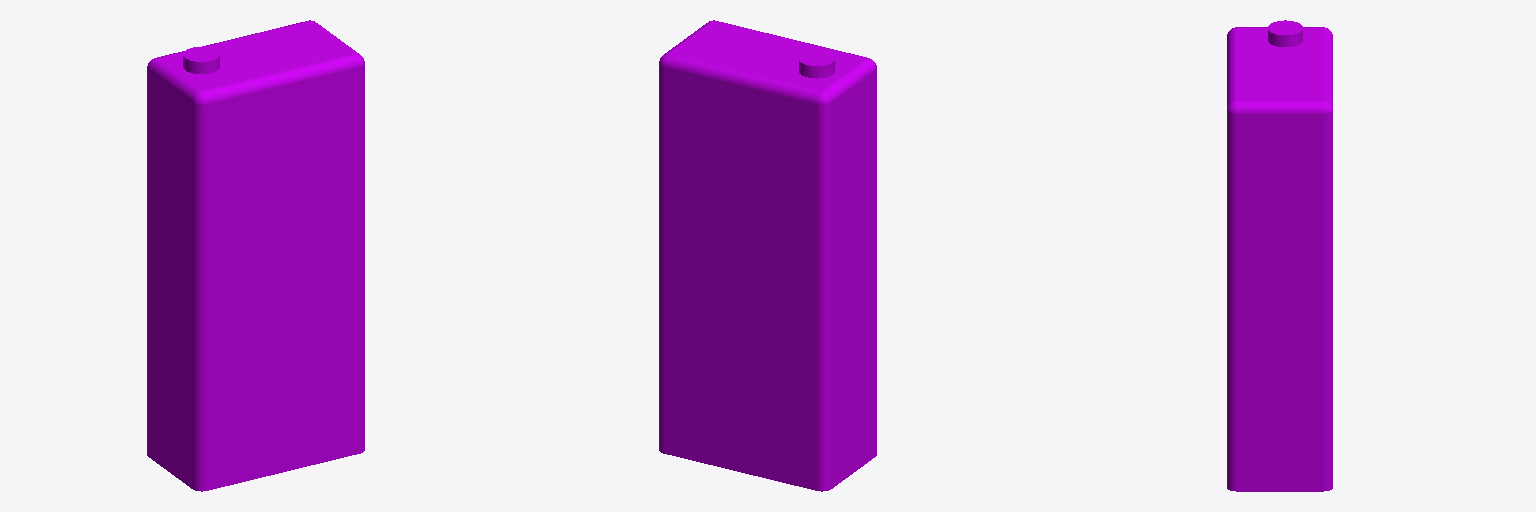
The robot description file, URDF, robot "ambrosia.urdf":
<?xml version="0.0" ?>
<robot name="ambrosia.urdf">
  <link name="baseLink">
    <contact>
      <lateral_friction value="1.0"/>
      <inertia_scaling value="3.0"/>
    </contact>
    <inertial>
      <origin rpy="0 0 0" xyz="0 0 0"/>
       <mass value=".2"/>
       <inertia ixx="0.1" ixy="0" ixz="0" iyy="0.1" iyz="0" izz="0.1"/>
    </inertial>
    <visual>
      <origin rpy="0 0 0" xyz="0 0 0"/>
      <geometry>
        <mesh filename="ambrosia.stl" scale="1 1 1"/>
      </geometry>
      <material name="pink">
        <color rgba="0.81 0.04 0.96 0.7"/>
      </material>
    </visual>
    <collision>
      <origin rpy="0 0 0" xyz="0 0 0"/>
      <geometry>
    <box size="0.005 0.005 0.005"/>
      </geometry>
    </collision>
  </link>
</robot>

--- What the picture shows (computed from the rendered views, not written in the file) ---
3 views of the same robot in one strip: view 1: azimuth 30°, elevation 25°; view 2: azimuth 150°, elevation 25°; view 3: azimuth 270°, elevation 25° (orthographic).
Robot: ambrosia.urdf — 1 links, 0 joints (none); root link baseLink; default pose: every joint at zero.
Links seen in each view (by area): view 1: baseLink; view 2: baseLink; view 3: baseLink.
Link boxes in pixels (x1,y1,x2,y2): baseLink: [147, 20, 364, 491]; baseLink: [659, 20, 876, 491]; baseLink: [1227, 20, 1332, 491].
Bounding box of the posed robot: 0.0904 × 0.0502 × 0.2062 m (x, y, z).
Meshes: 1 distinct files referenced, 1 mesh visuals loaded (1 binary STL).